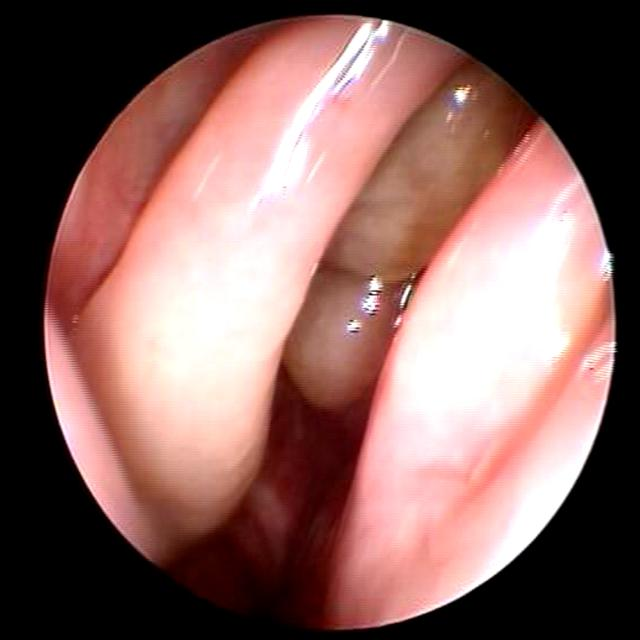OPENING: (248, 1, 312, 369)
POLYPS: (458, 36, 587, 294), (327, 234, 442, 417)
